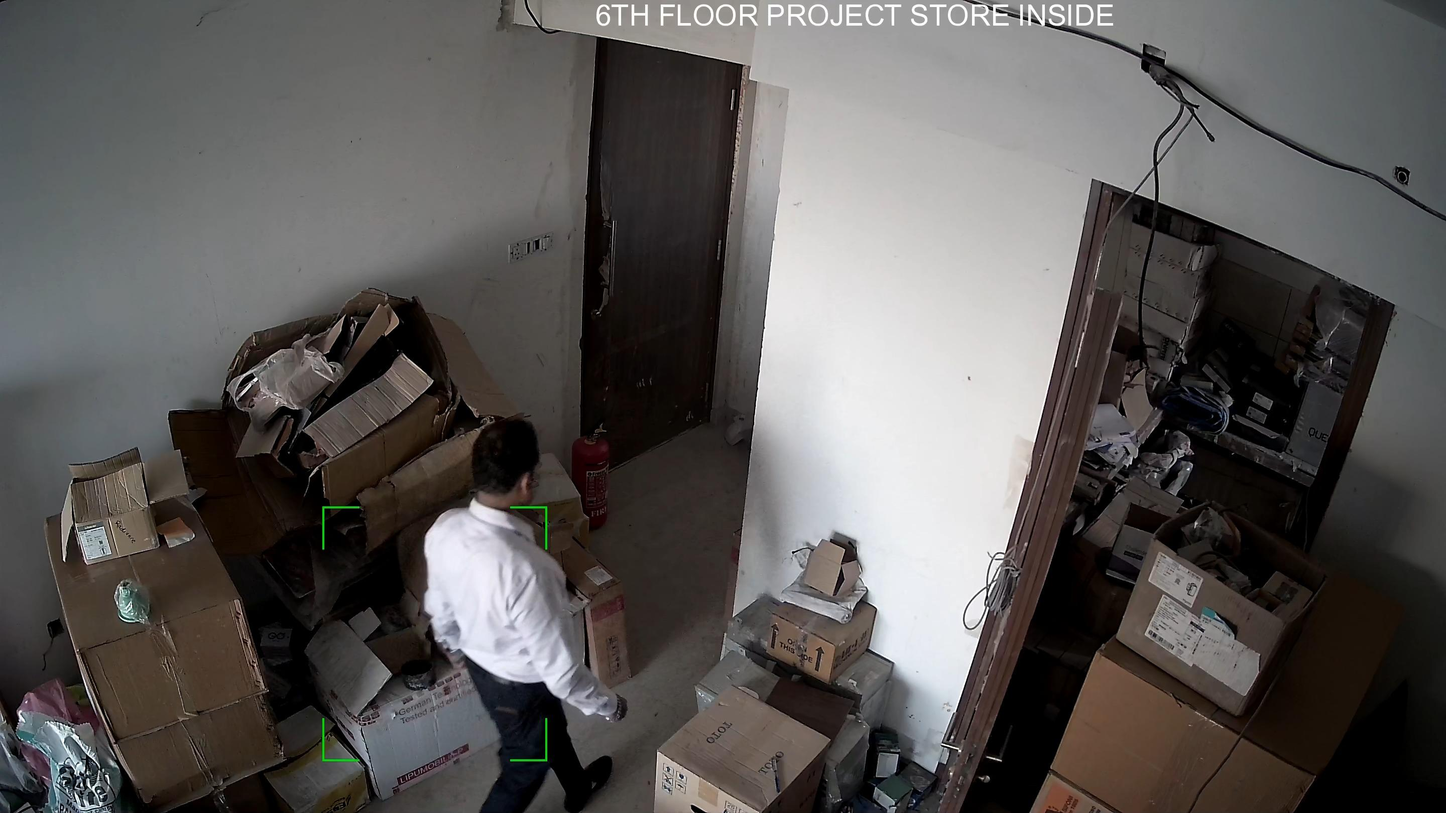Door-Close: (560, 38, 741, 456)
